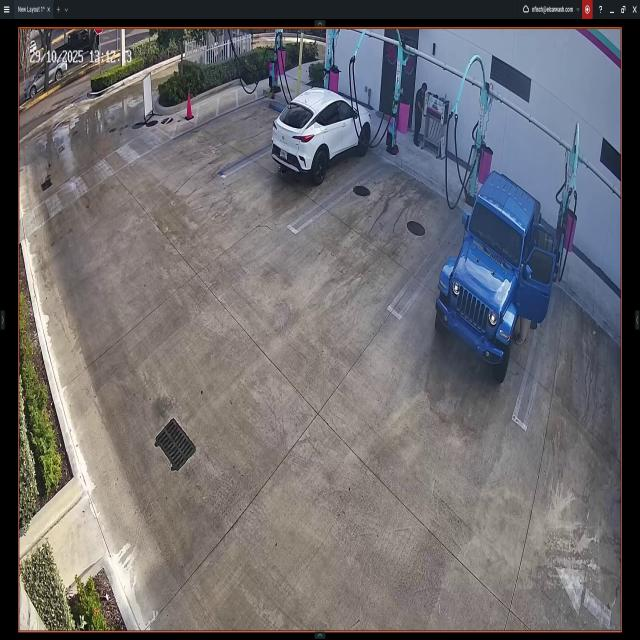Car: (428, 170, 556, 374), (268, 83, 372, 181)
